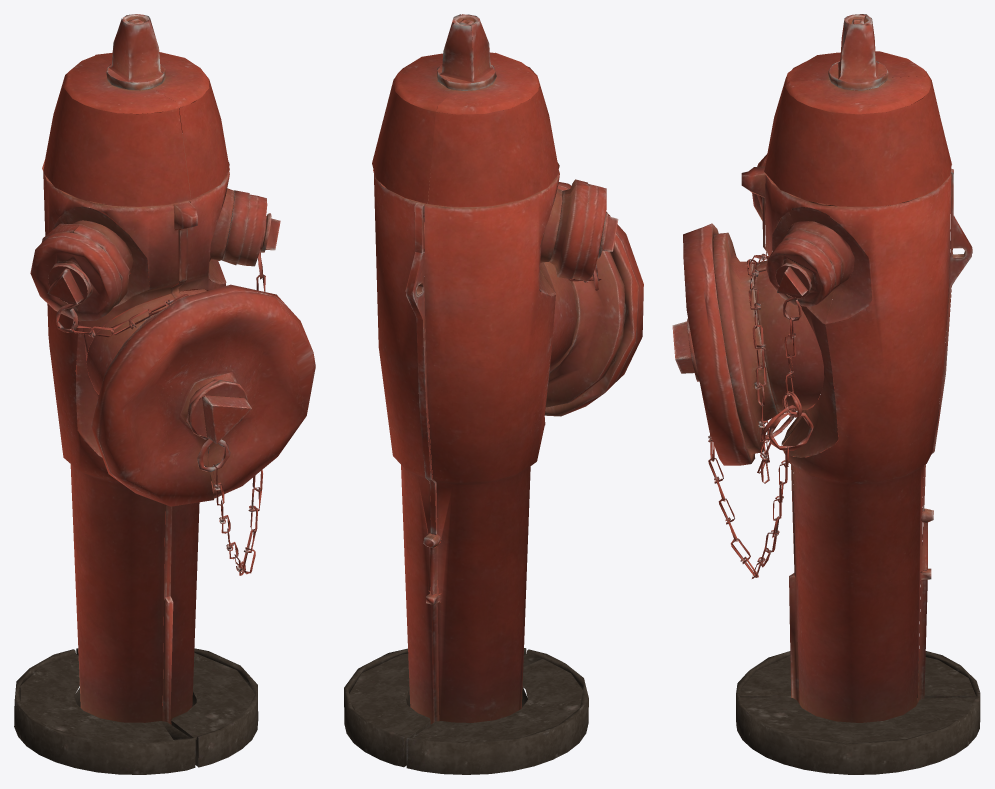
The model's file is fire_hydrant.gltf.
The picture shows the model from 3 angles, left to right: view 1: azimuth 30°, elevation 25°; view 2: azimuth 150°, elevation 25°; view 3: azimuth 270°, elevation 25°; orthographic projection.
Visible parts, largest first — view 1: fire_hydrant, fire_hydrant_cap_01, fire_hydrant_cap_03, fire_hydrant_chain, fire_hydrant_cap_02; view 2: fire_hydrant, fire_hydrant_cap_01, fire_hydrant_cap_03; view 3: fire_hydrant, fire_hydrant_cap_01, fire_hydrant_chain, fire_hydrant_cap_02.
Boxes of the visible parts, bbox=[...] form: fire_hydrant: bbox=[14, 14, 258, 774]; fire_hydrant_cap_01: bbox=[91, 284, 315, 506]; fire_hydrant_cap_03: bbox=[30, 232, 121, 321]; fire_hydrant_chain: bbox=[55, 216, 267, 575]; fire_hydrant_cap_02: bbox=[237, 194, 280, 266]; fire_hydrant: bbox=[344, 14, 627, 774]; fire_hydrant_cap_01: bbox=[544, 182, 643, 416]; fire_hydrant_cap_03: bbox=[572, 184, 618, 281]; fire_hydrant: bbox=[713, 14, 980, 774]; fire_hydrant_cap_01: bbox=[672, 223, 755, 465]; fire_hydrant_chain: bbox=[708, 251, 813, 578]; fire_hydrant_cap_02: bbox=[766, 238, 835, 306].
Bounding box in the file's own units: 0.2738 × 0.8008 × 0.3173.
1 material, 1 textured.
